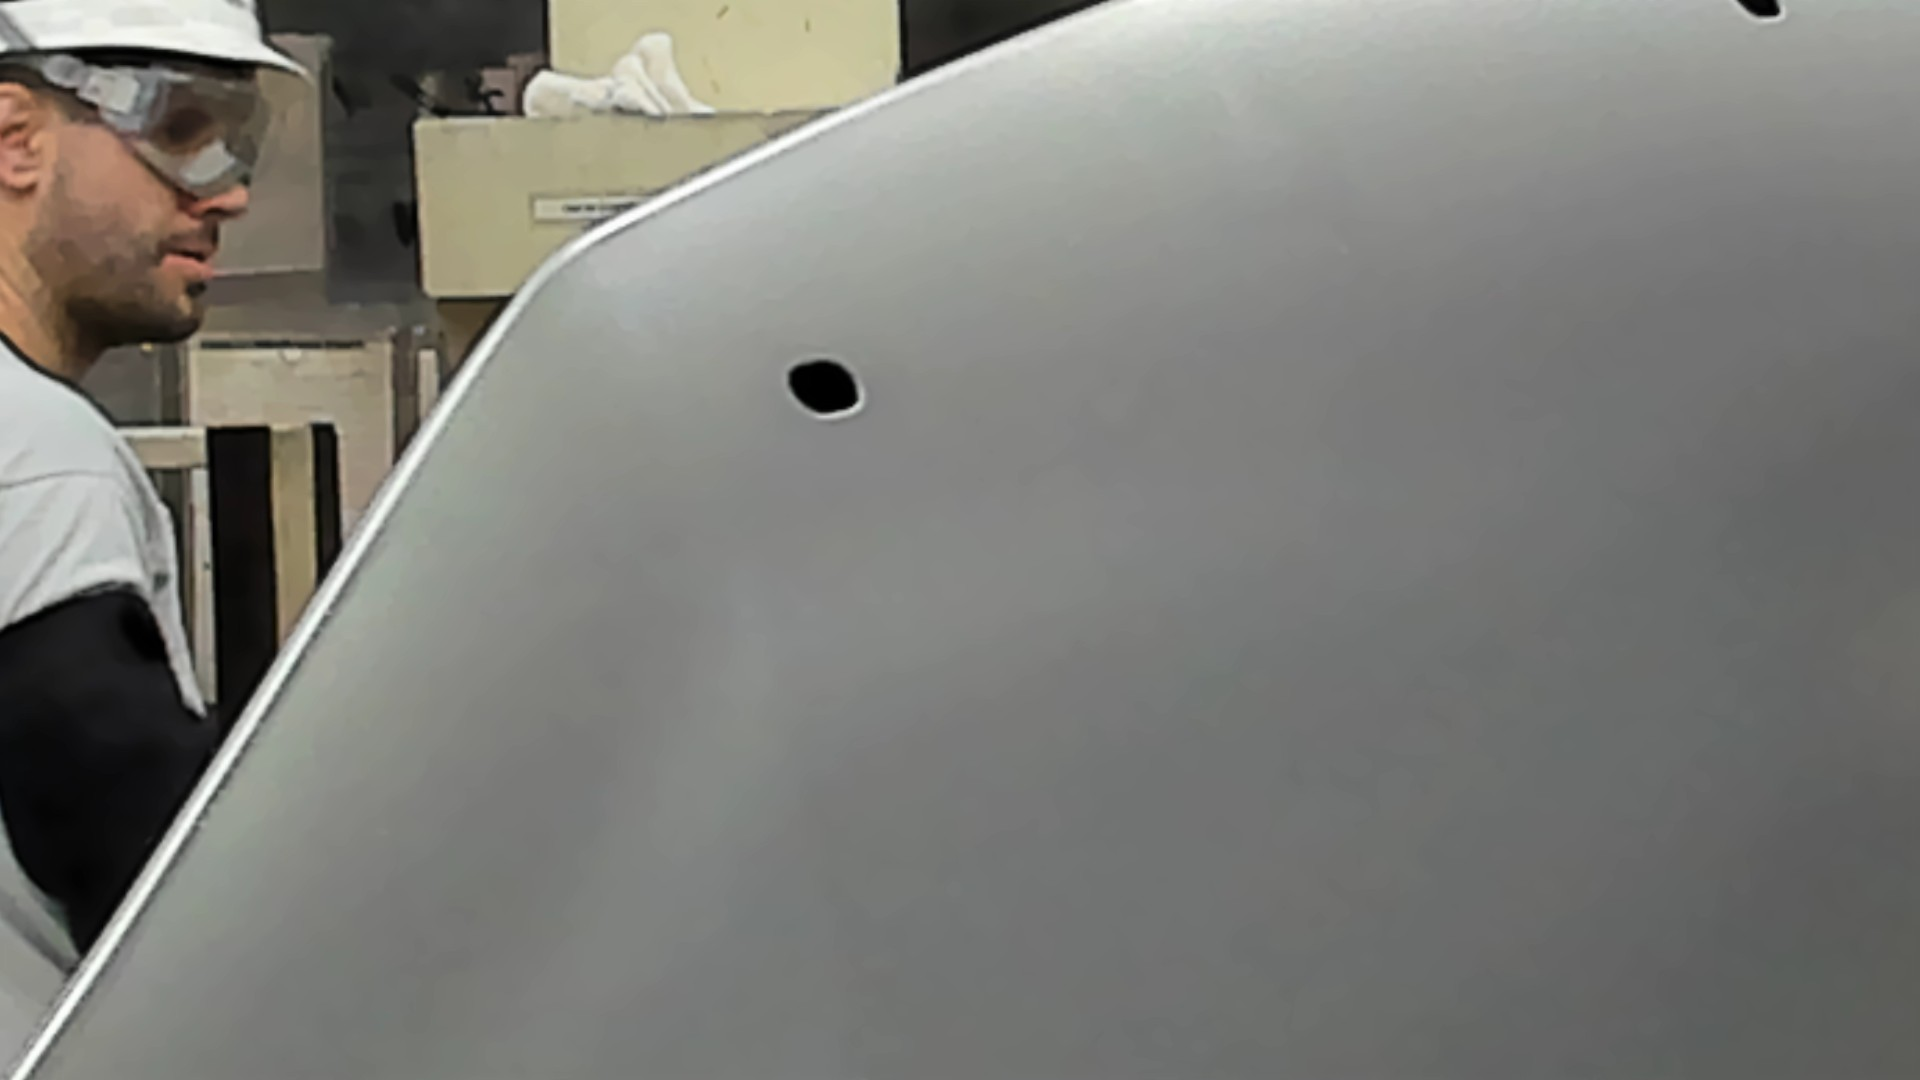amorfo: (782, 356, 872, 427), (1731, 1, 1791, 26)
